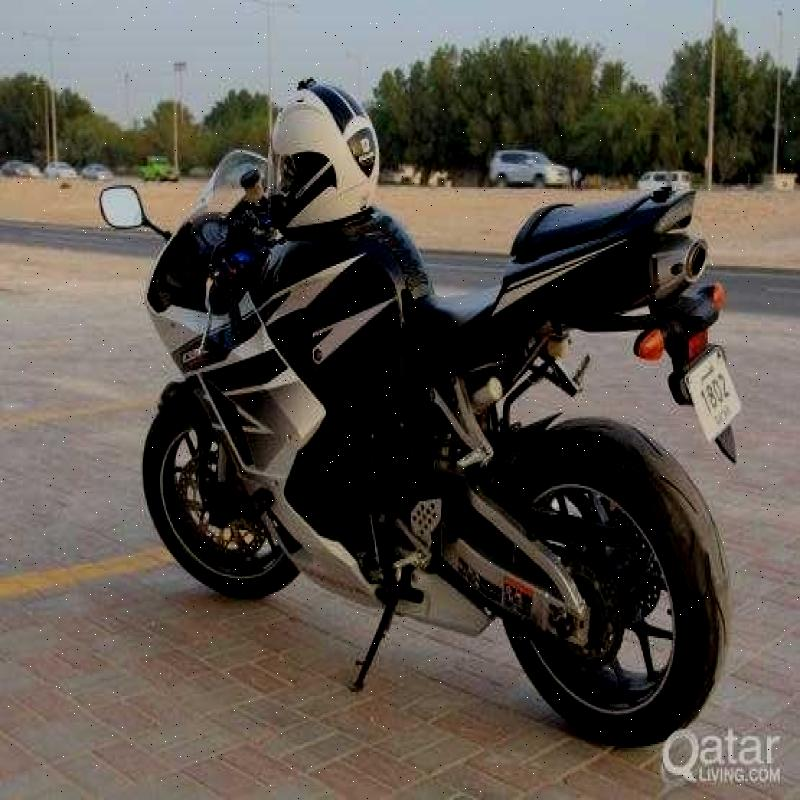bike: (101, 75, 731, 724)
